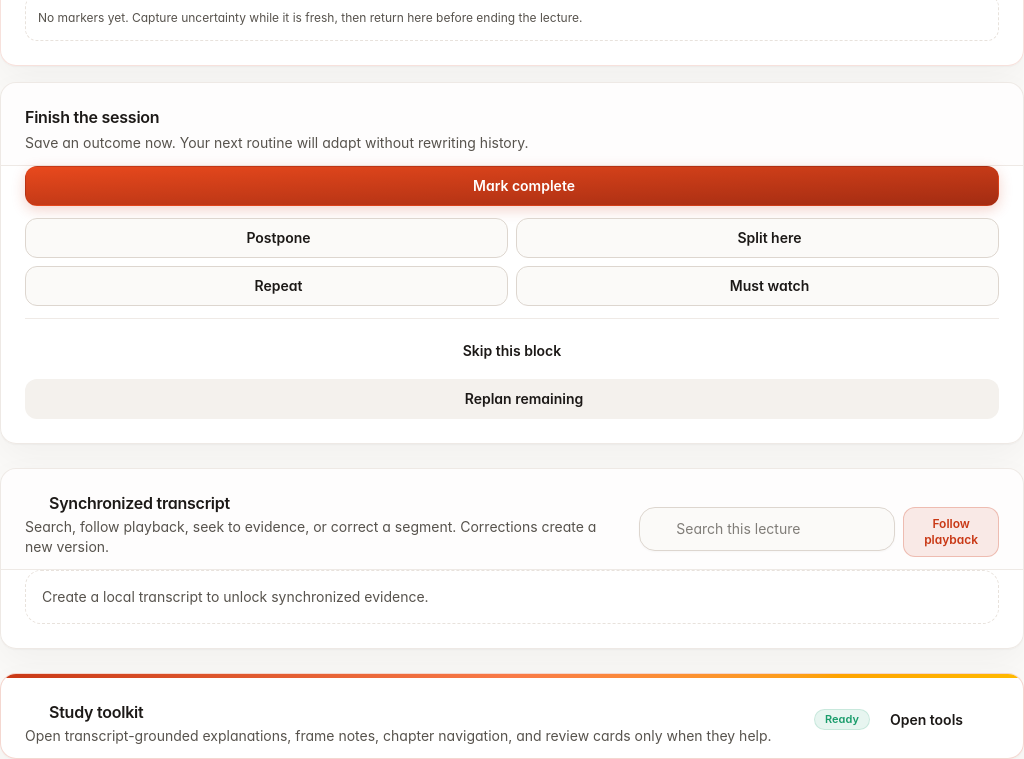
Test case: PlayerRoute › runs companion actions against the current grounded timestamp
The width and height of the screenshot is (1024, 759).
(page scrolled)
Click the button "Open tools".
click(938, 720)  # box [878, 702, 999, 738]
(page scrolled)
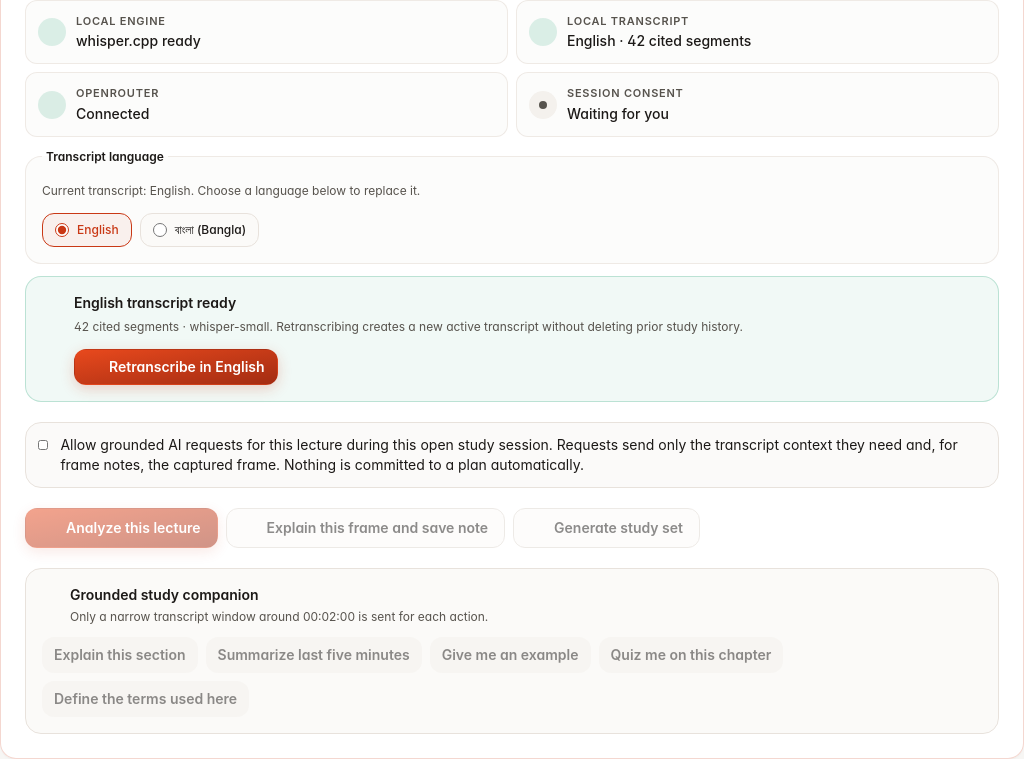
Now the checkbox is enabled
Click the checkbox.
click(43, 445)  # box [38, 437, 48, 453]
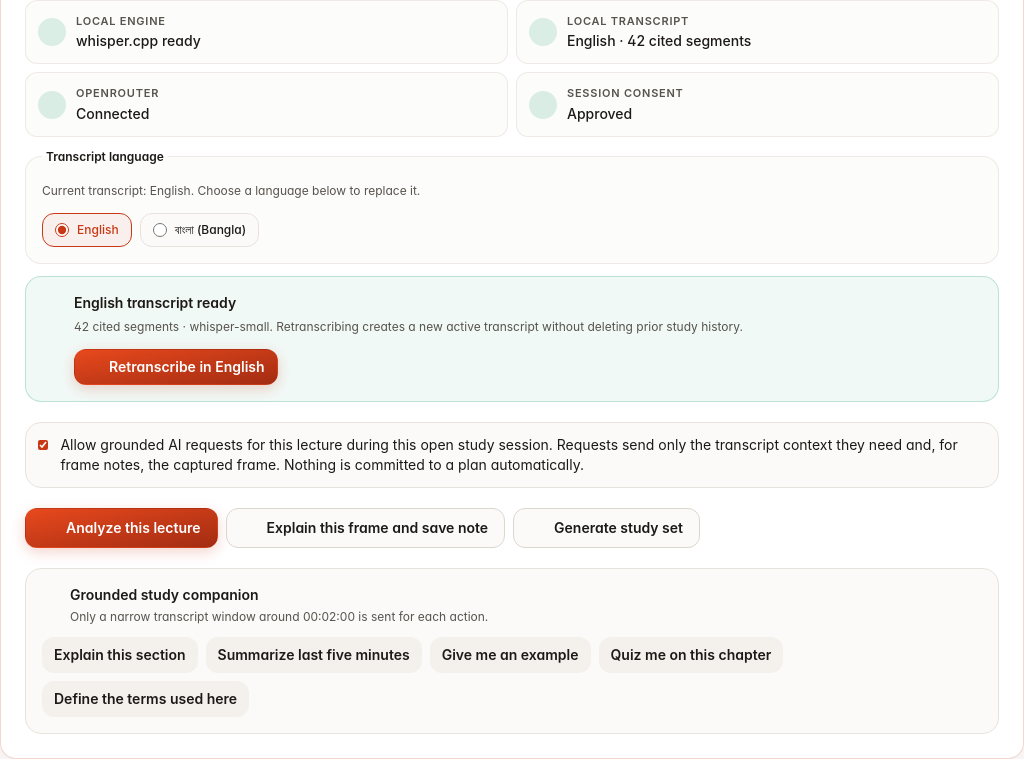
Click the button "Explain this section".
click(120, 655)  # box [42, 637, 198, 673]
(page scrolled)
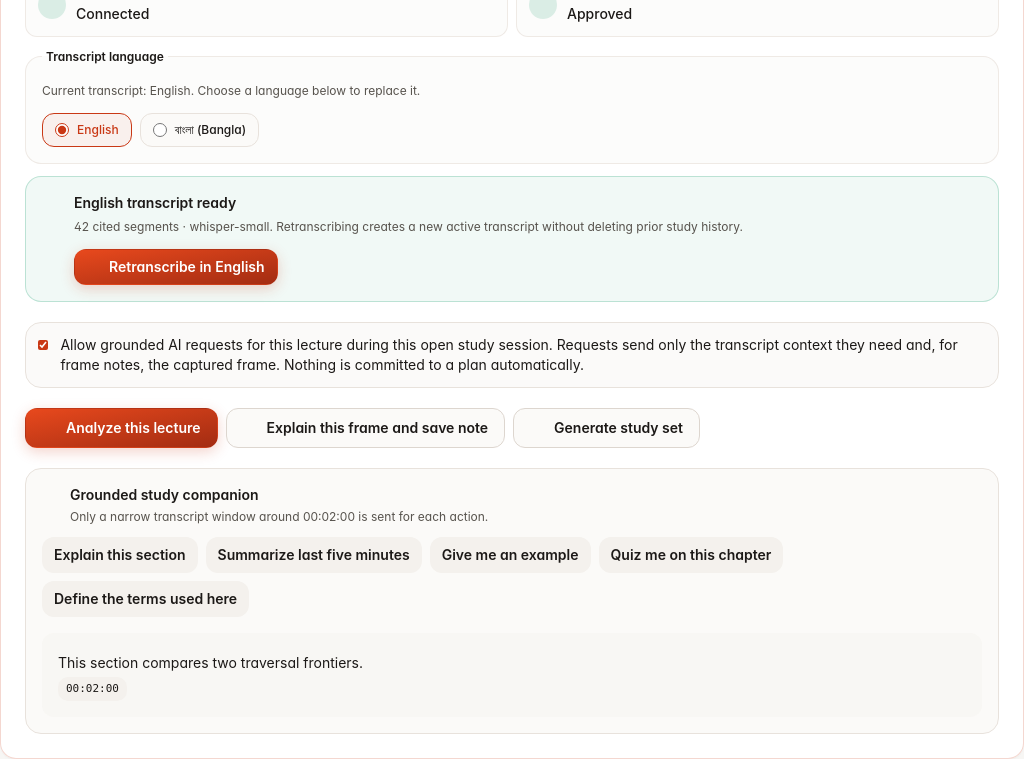
Now the text "This section compares two traversal frontiers." is shown, box [58, 654, 363, 671]
